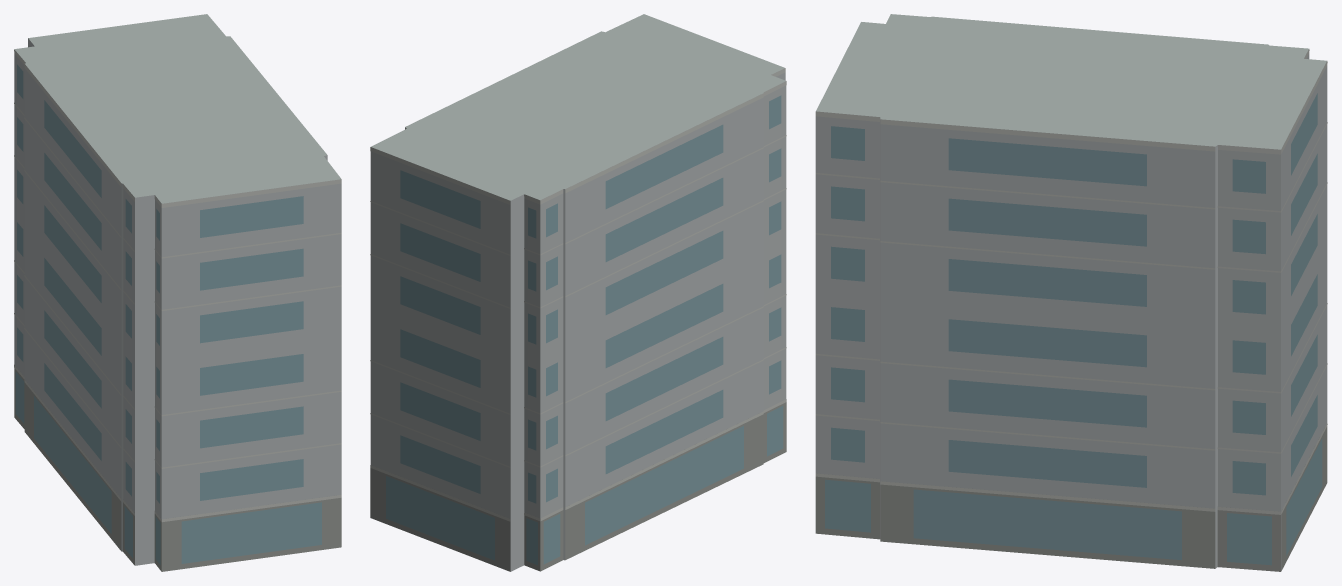
Rendered from survey-upis-32918259.glb.
3 renders of one model, left to right at view 1: azimuth 30°, elevation 25°; view 2: azimuth 150°, elevation 25°; view 3: azimuth 270°, elevation 25°, orthographic. The views are drawn at different scales.
Visible parts, largest first — view 1: survey-upis-32918259.tmp; view 2: survey-upis-32918259.tmp; view 3: survey-upis-32918259.tmp.
Boxes of the visible parts, x1=… form: survey-upis-32918259.tmp: x1=14, y1=14, x2=341, y2=571; survey-upis-32918259.tmp: x1=370, y1=14, x2=786, y2=571; survey-upis-32918259.tmp: x1=815, y1=14, x2=1327, y2=571.
Bounding box in the file's own units: 14.36 × 20.8 × 22.86.
